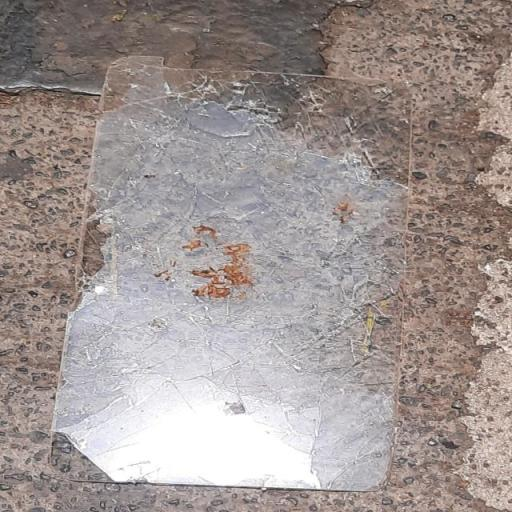glass: (57, 40, 424, 508)
